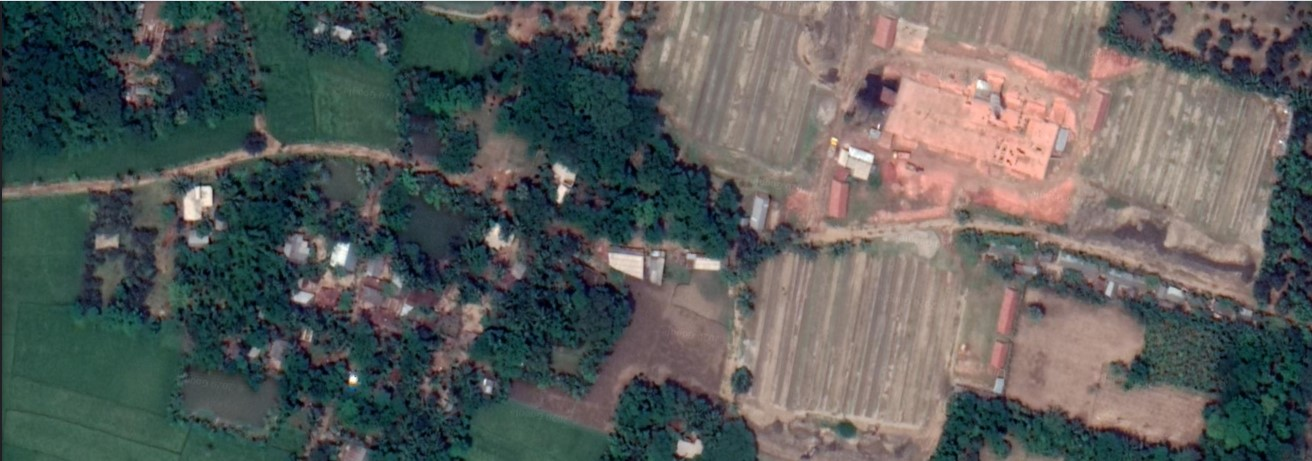kiln: (906, 57, 1080, 197)
